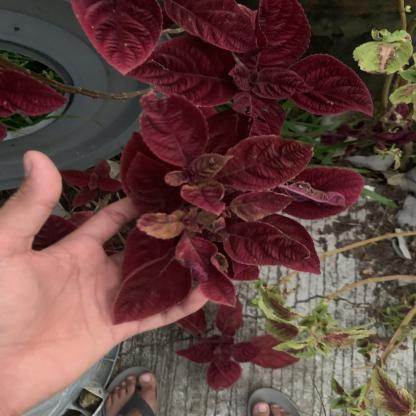Bunga Coleus: (64, 8, 384, 310), (189, 323, 283, 385), (3, 60, 62, 136)
